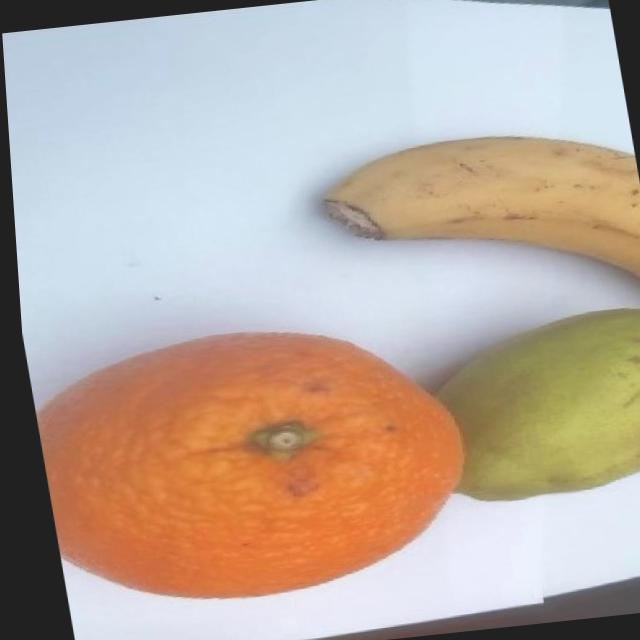Banana: (306, 120, 640, 330)
Orange: (19, 310, 479, 622)
